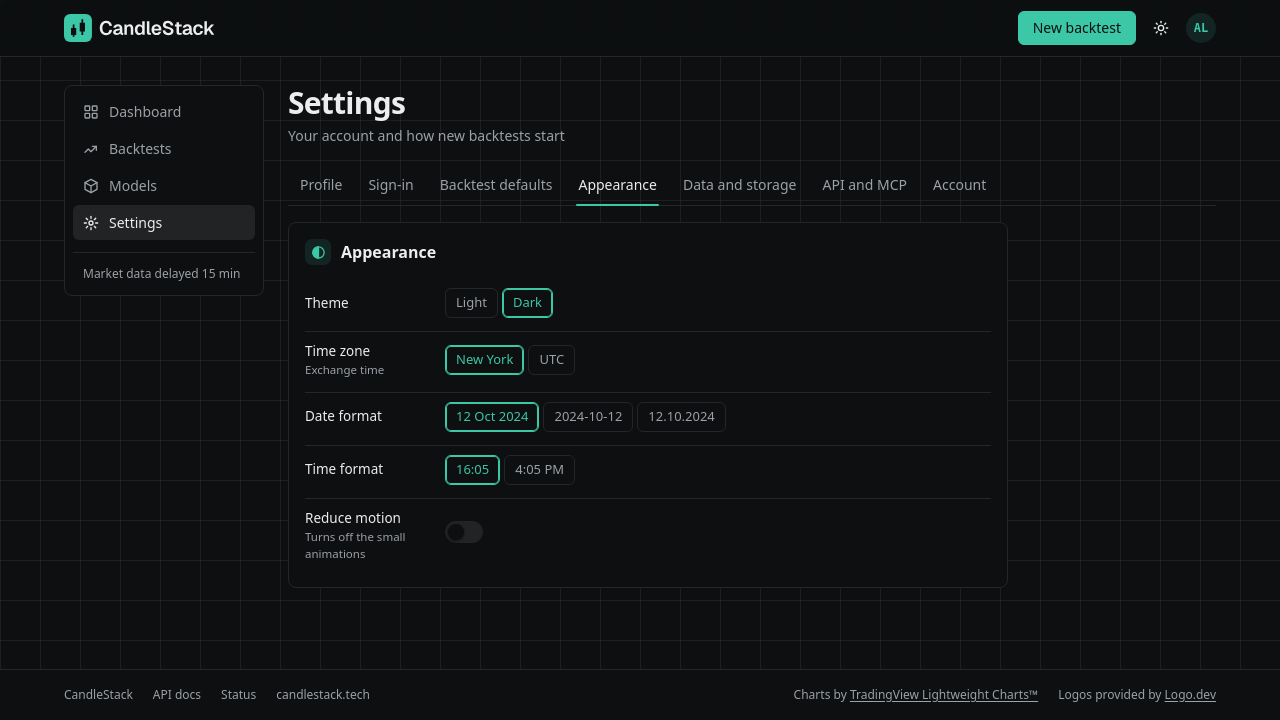
Test case: Appearance › goes back and says why when a change cannot be saved
Click the radio button labelled "Light". click: (471, 303)
box: left=445, top=288, right=498, bottom=318
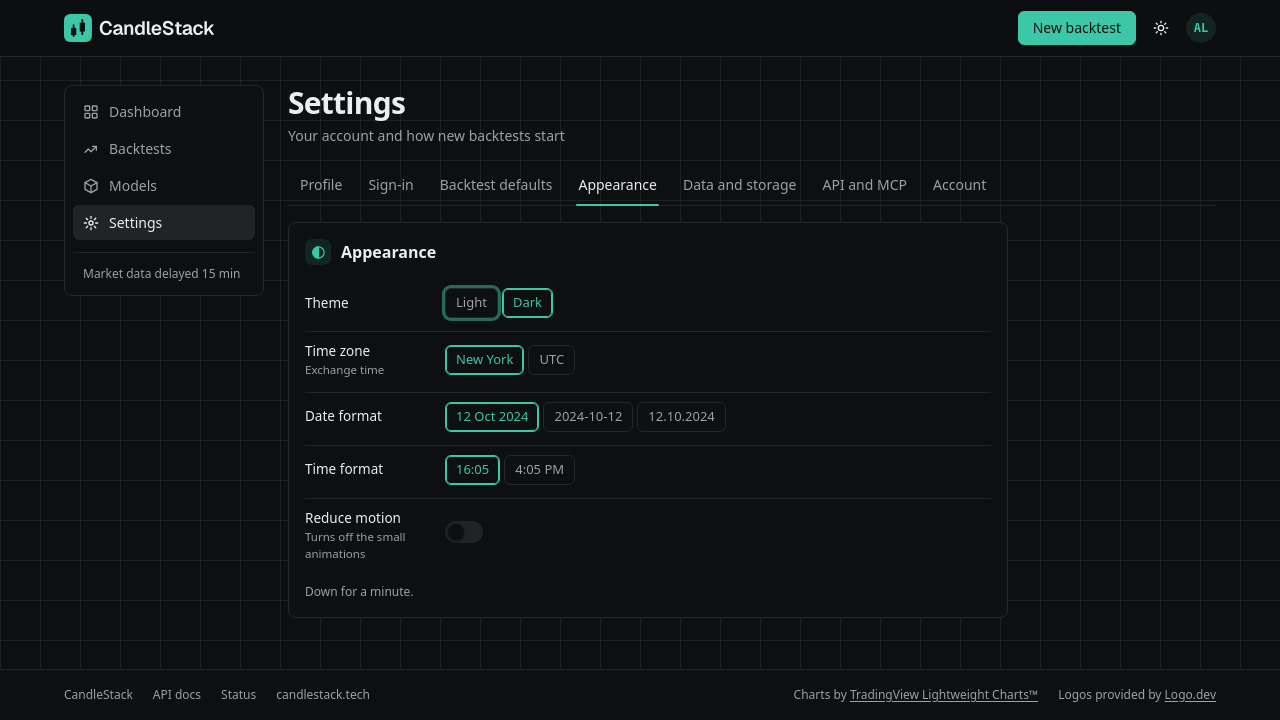
Expected: the message reads "Down for a minute.", left=305, top=583, right=414, bottom=600
